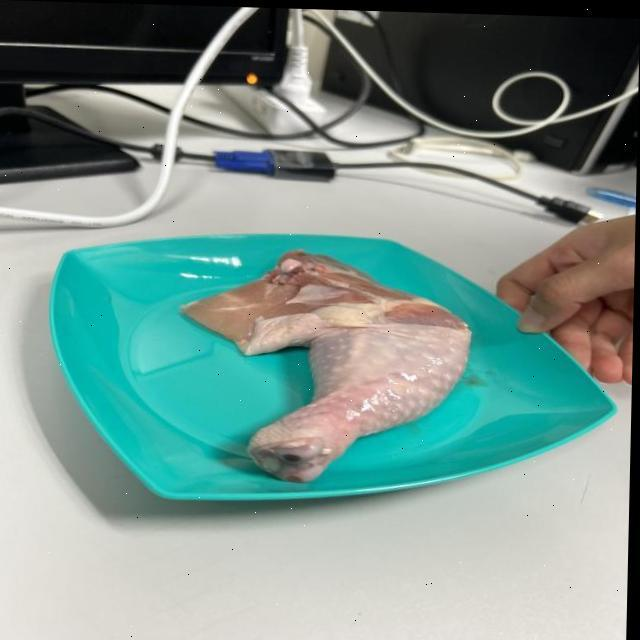quater: (217, 238, 472, 482)
